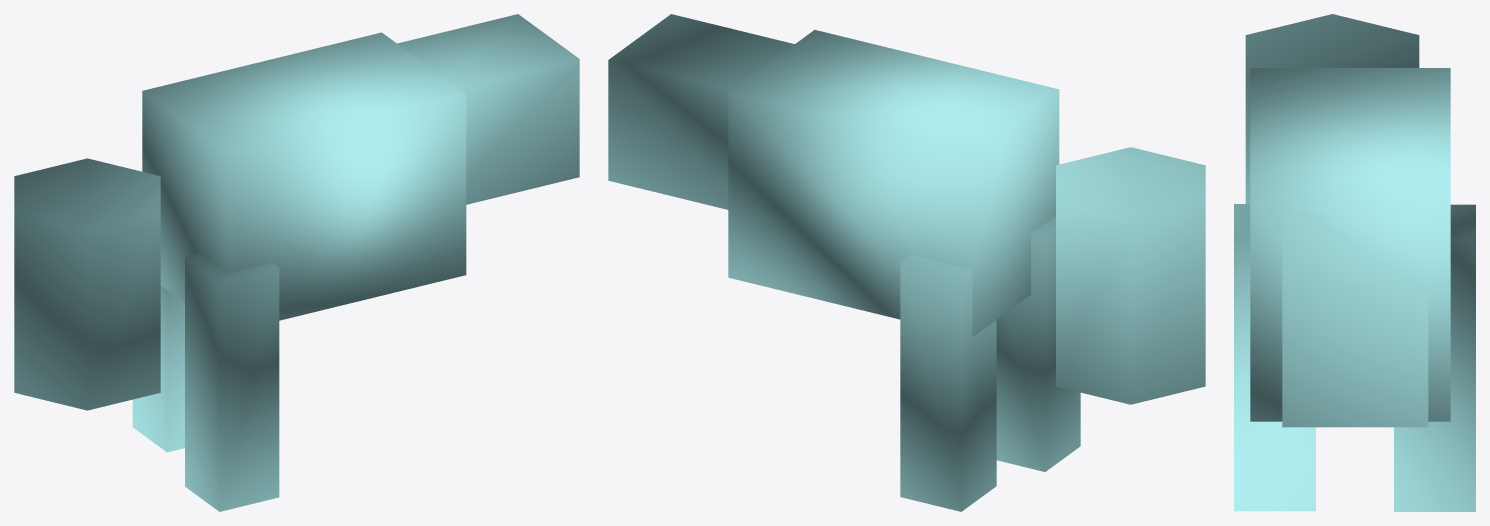
Rendered from ps2_jrpg_highland_mountain_troll_enemy.obj.
3 renders of one model, left to right at view 1: azimuth 30°, elevation 25°; view 2: azimuth 150°, elevation 25°; view 3: azimuth 270°, elevation 25°, orthographic. The views are drawn at different scales.
Bounding box in the file's own units: 1.64 × 1.01 × 0.5306.
